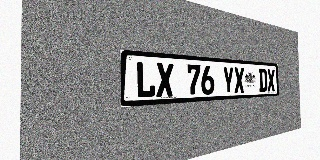6: (201, 65, 214, 95)
7: (186, 64, 201, 96)
D: (259, 69, 267, 92)
L: (136, 61, 156, 98)
X: (156, 62, 174, 97), (234, 67, 244, 93), (267, 69, 275, 92)
Y: (223, 66, 234, 94)
